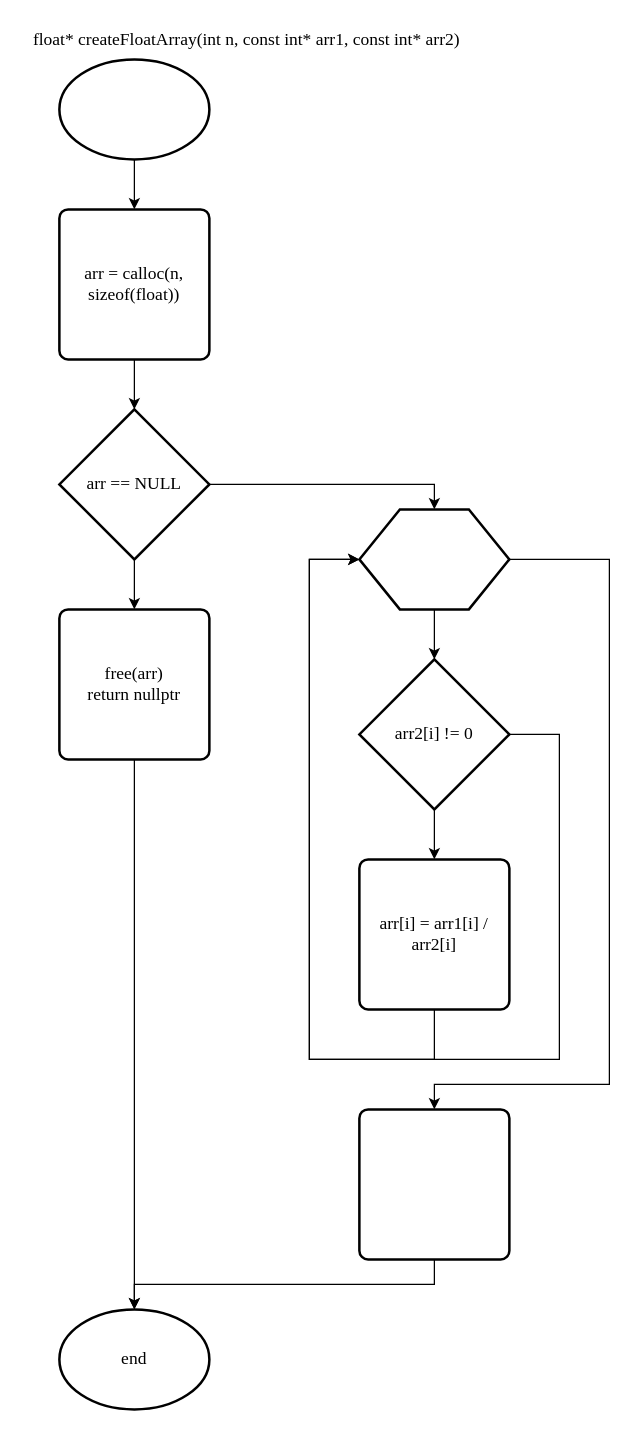
This 641x1431 diagram has some shape labels left out. Each missing label, with the box of its shape:
i = 0; i < n; i++: (358, 508, 510, 610)
return arr: (358, 1108, 510, 1260)
start: (58, 58, 210, 160)
